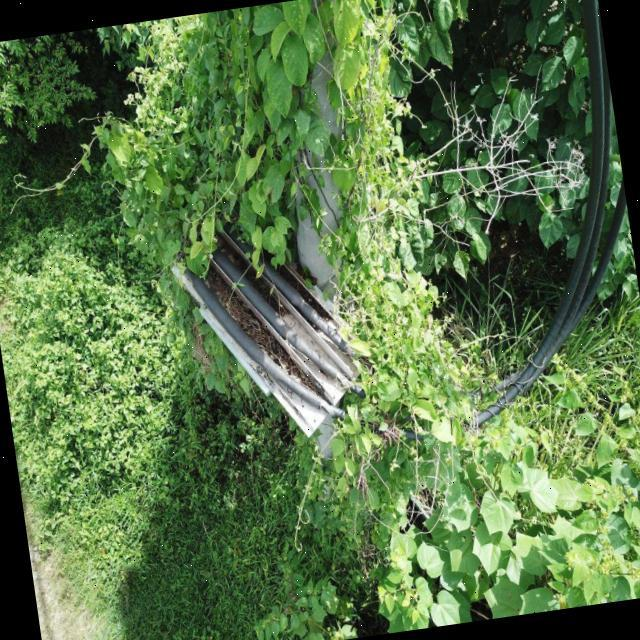critical vegetation: (116, 23, 487, 490)
